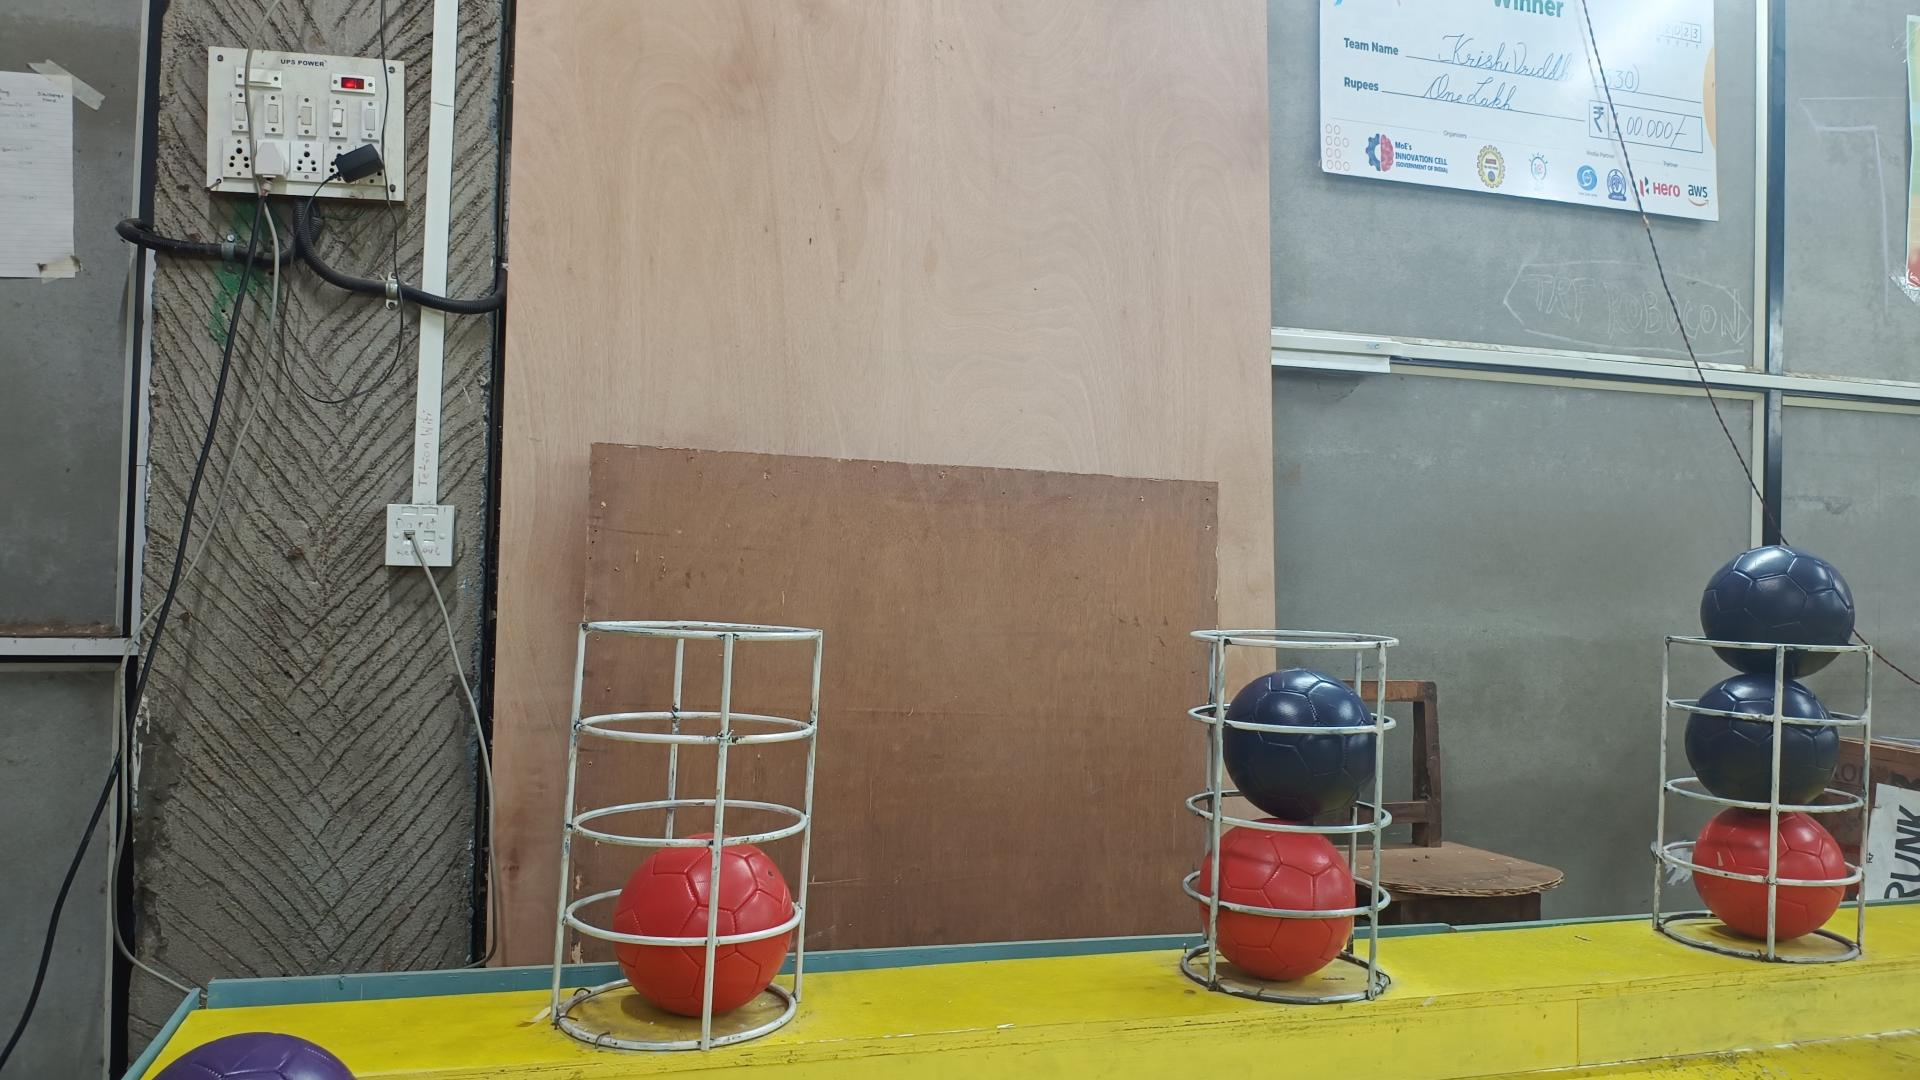dhoka: (1222, 667, 1377, 825), (1698, 543, 1857, 679), (1684, 671, 1841, 806)
laale: (612, 832, 795, 1017), (1200, 825, 1357, 982), (1692, 806, 1849, 942)
